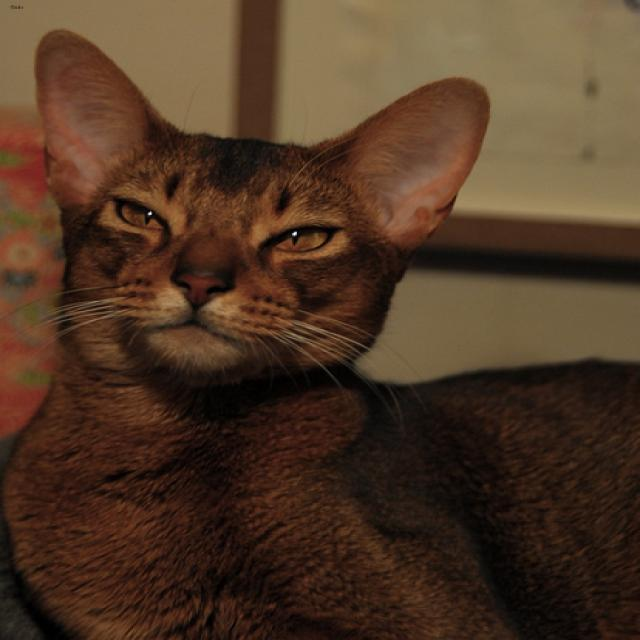Abyssinian: (32, 25, 492, 406)
